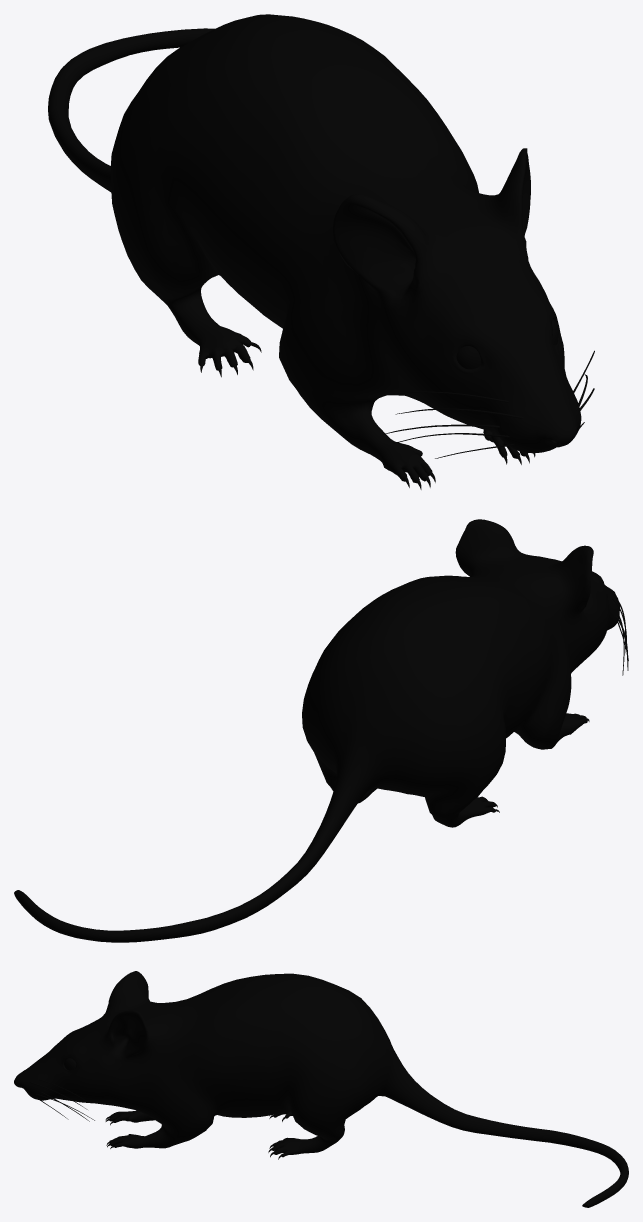
File: rat.obj
3 views of the same model, one above another, from view 1: azimuth 30°, elevation 25°; view 2: azimuth 150°, elevation 25°; view 3: azimuth 270°, elevation 25° (orthographic). The views are drawn at different scales.
Visible parts, largest first — view 1: node_id36_mesh_id37.002; view 2: node_id36_mesh_id37.002; view 3: node_id36_mesh_id37.002.
Part boxes in pixels (left/top/right/bottom): node_id36_mesh_id37.002: left=48, top=14, right=594, bottom=489; node_id36_mesh_id37.002: left=14, top=519, right=628, bottom=942; node_id36_mesh_id37.002: left=14, top=971, right=628, bottom=1207.
Bounding box in the file's own units: 107 × 70.75 × 256.
